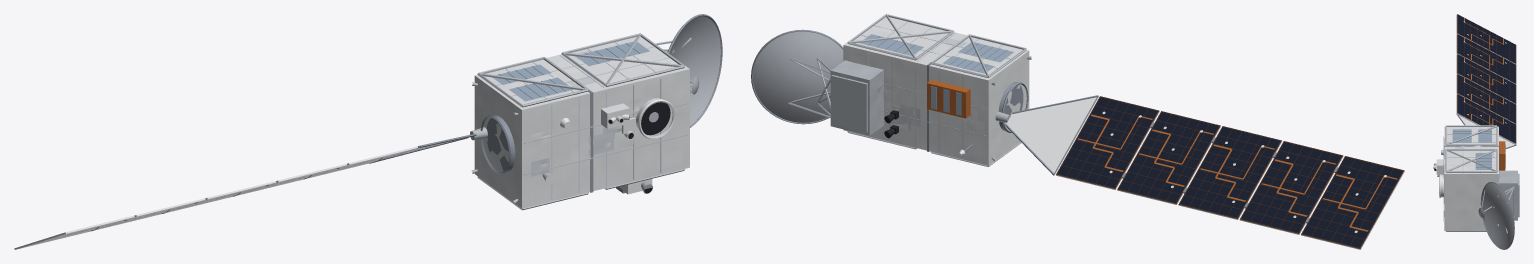
Rendered from earthcare.glb.
3 renders of one model, left to right at view 1: azimuth 30°, elevation 25°; view 2: azimuth 150°, elevation 25°; view 3: azimuth 270°, elevation 25°, orthographic. The views are drawn at different scales.
Visible parts, largest first — view 1: foil, body; view 2: solar-panel, foil, body; view 3: foil, solar-panel, body.
Boxes of the visible parts, box(x1,y1,x2,y2) form: foil: box(474, 16, 720, 208); body: box(14, 14, 722, 249); solar-panel: box(1056, 96, 1404, 248); foil: box(752, 15, 1029, 165); body: box(751, 14, 1404, 249); foil: box(1443, 126, 1518, 248); solar-panel: box(1457, 14, 1516, 143); body: box(1433, 14, 1519, 249).
Bounding box in the file's own units: 17.25 × 2.87 × 3.16.
